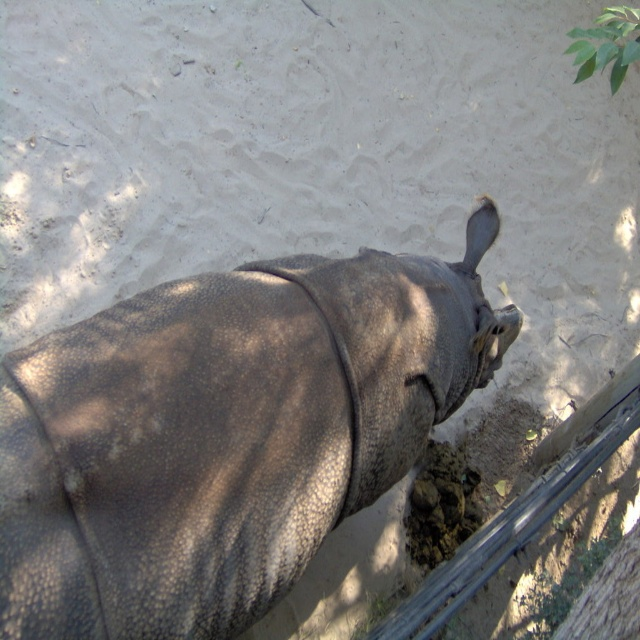Rhinoceros: (0, 189, 525, 639)
